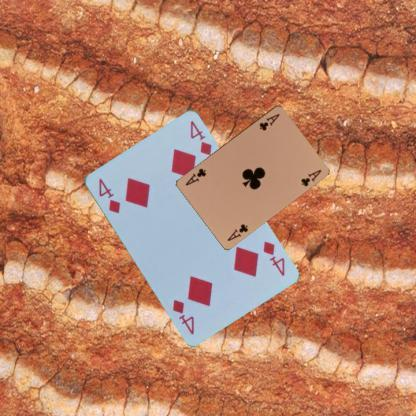4d: (260, 237, 286, 278), (96, 176, 122, 216)
Ac: (256, 110, 281, 132), (224, 221, 249, 242)
